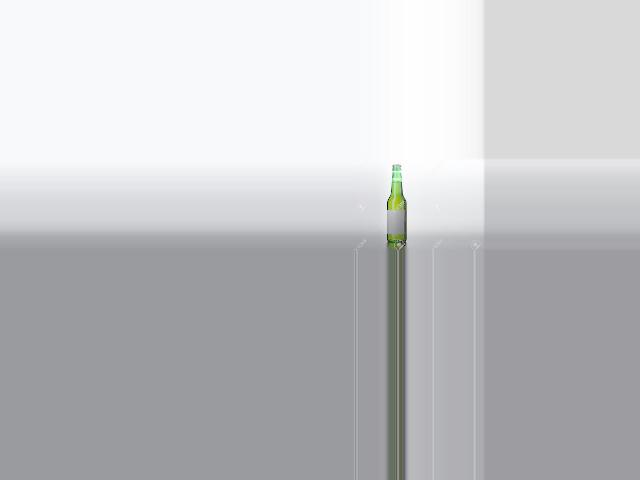beer: (387, 164, 407, 242)
